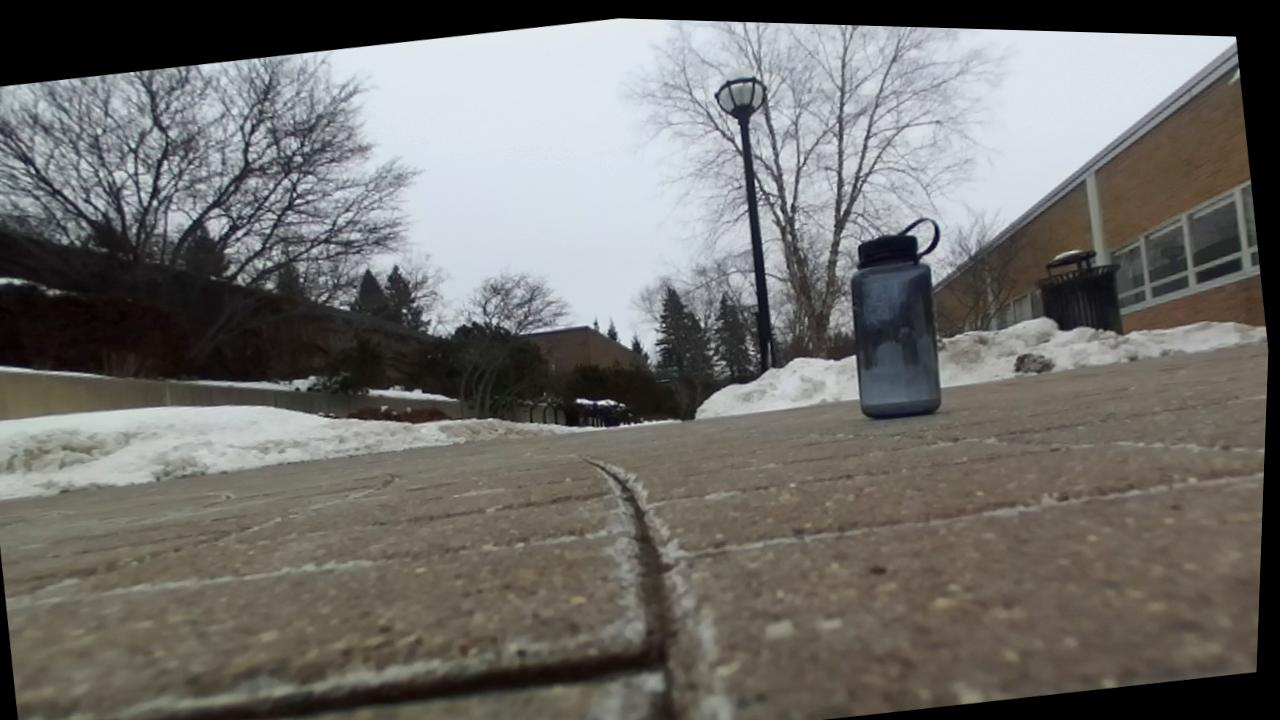bottle: (849, 218, 940, 417)
